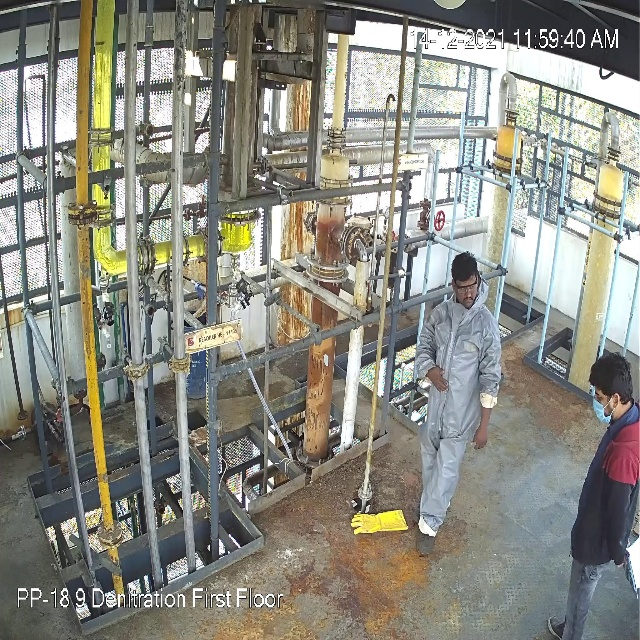Gafas: (457, 281, 479, 293)
Sin_mascara: (457, 290, 478, 309)
